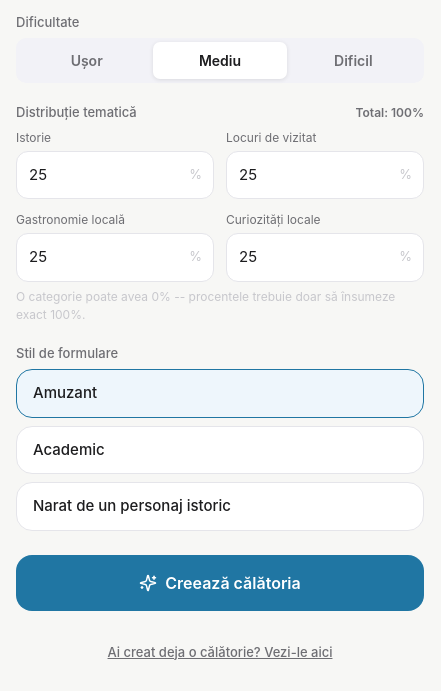
R9: HomePage creation form -- narrated_by_character style › selecting it reveals the character-name field, with an explanatory note
(page scrolled)
Check: the field labelled "Numele personajului istoric" is not shown
Step 1. Click the button "Narat de un personaj istoric" → x=220, y=506, box [16,482,424,530]
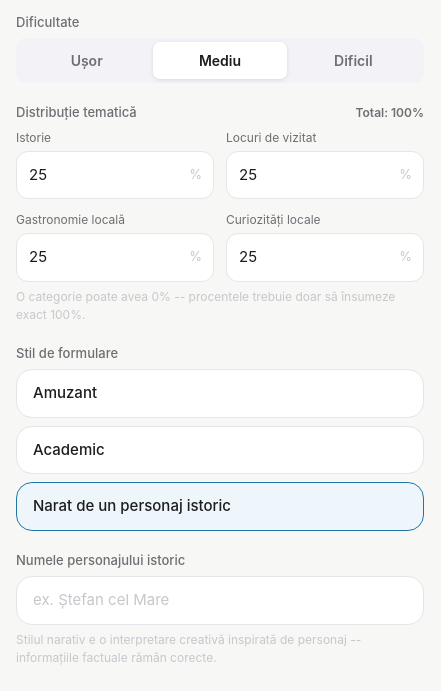
Check: the field labelled "Numele personajului istoric" is shown, box [16,576,424,624]
Check: the text "interpretare creativă inspirată de personaj" is shown, box [16,632,361,664]
